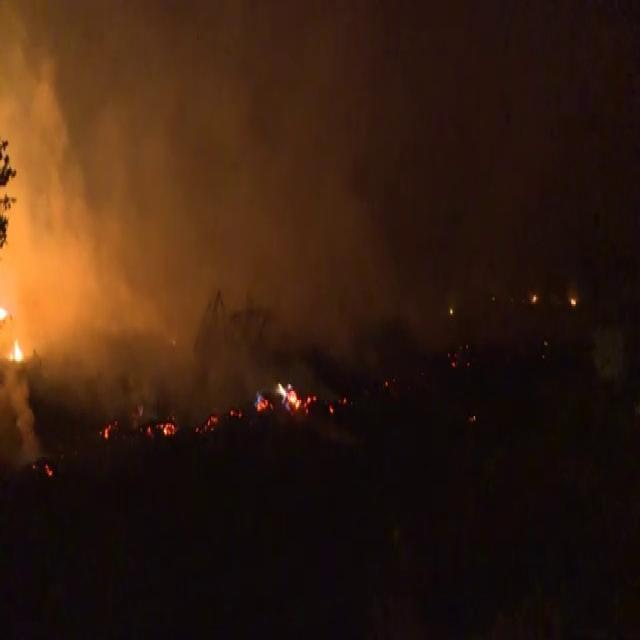Fire: (278, 380, 316, 420), (194, 409, 244, 435), (146, 418, 176, 439), (6, 336, 28, 364), (254, 397, 275, 412), (100, 422, 118, 439)
Smoke: (8, 16, 454, 464)
